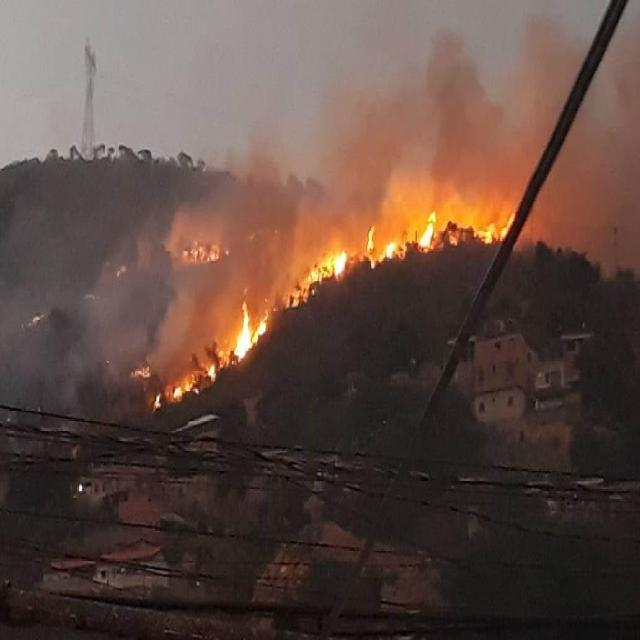Fire: (153, 294, 270, 414), (361, 188, 514, 259), (280, 246, 346, 312), (181, 237, 231, 264), (130, 360, 152, 379)
